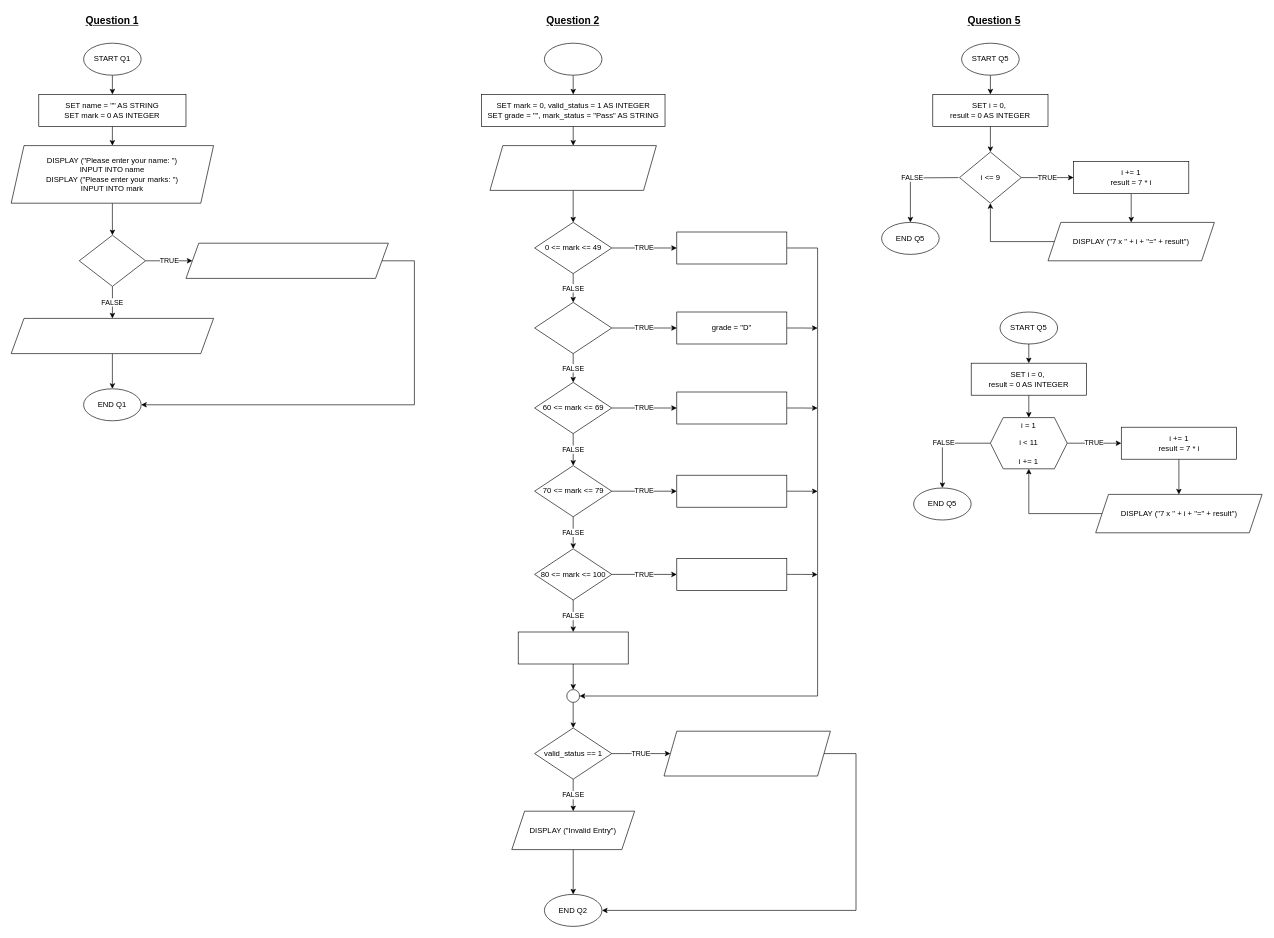
The diagram is 1274 pixels wide and 938 high, and some of its shapes have lost their labels. Each missing label, with the centre of its shape:
50 <= mark <= 59: (x=573, y=328)
DISPLAY ("Enter your marks: ") INPUT INTO mark: (x=572, y=167)
DISPLAY ("Your grade is: " + grade) DISPLAY ("Your status is: " + mark_status): (x=746, y=753)
DISPLAY (name + ", you have failed the module."): (x=112, y=336)
DISPLAY (name + ", you have passed the module."): (x=286, y=260)
grade = "A": (x=731, y=574)
grade = "B": (x=731, y=491)
grade = "C": (x=731, y=407)
grade = "F" mark_status = "Fail": (x=731, y=247)
mark >= 50: (x=112, y=260)
START Q2: (x=573, y=59)
valid_status = 0: (x=573, y=647)
